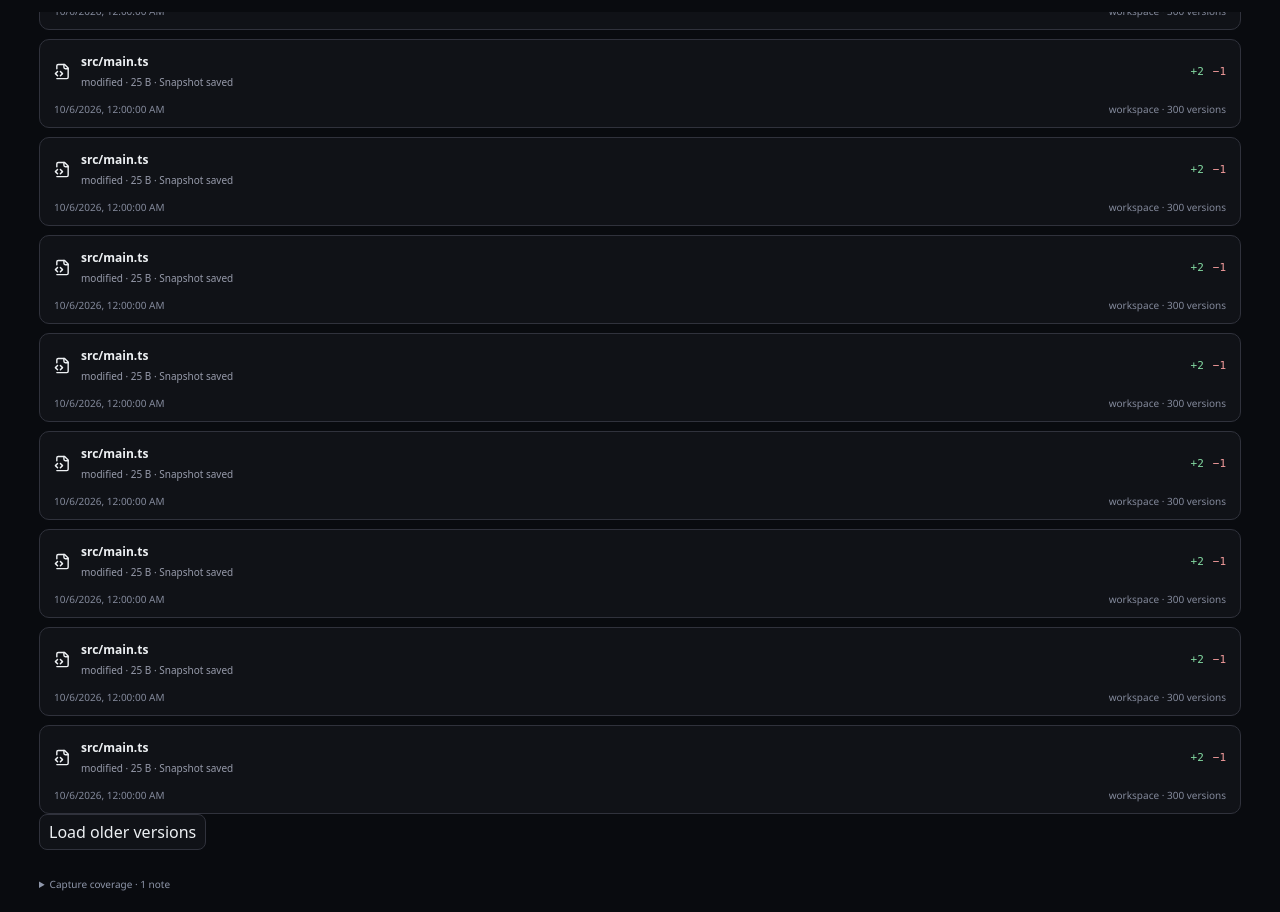
loads every older version by cursor without collapsing duplicate filenames
The width and height of the screenshot is (1280, 912).
(page scrolled)
Click the button "Load older versions". click: (123, 832)
box: [39,814,206,850]
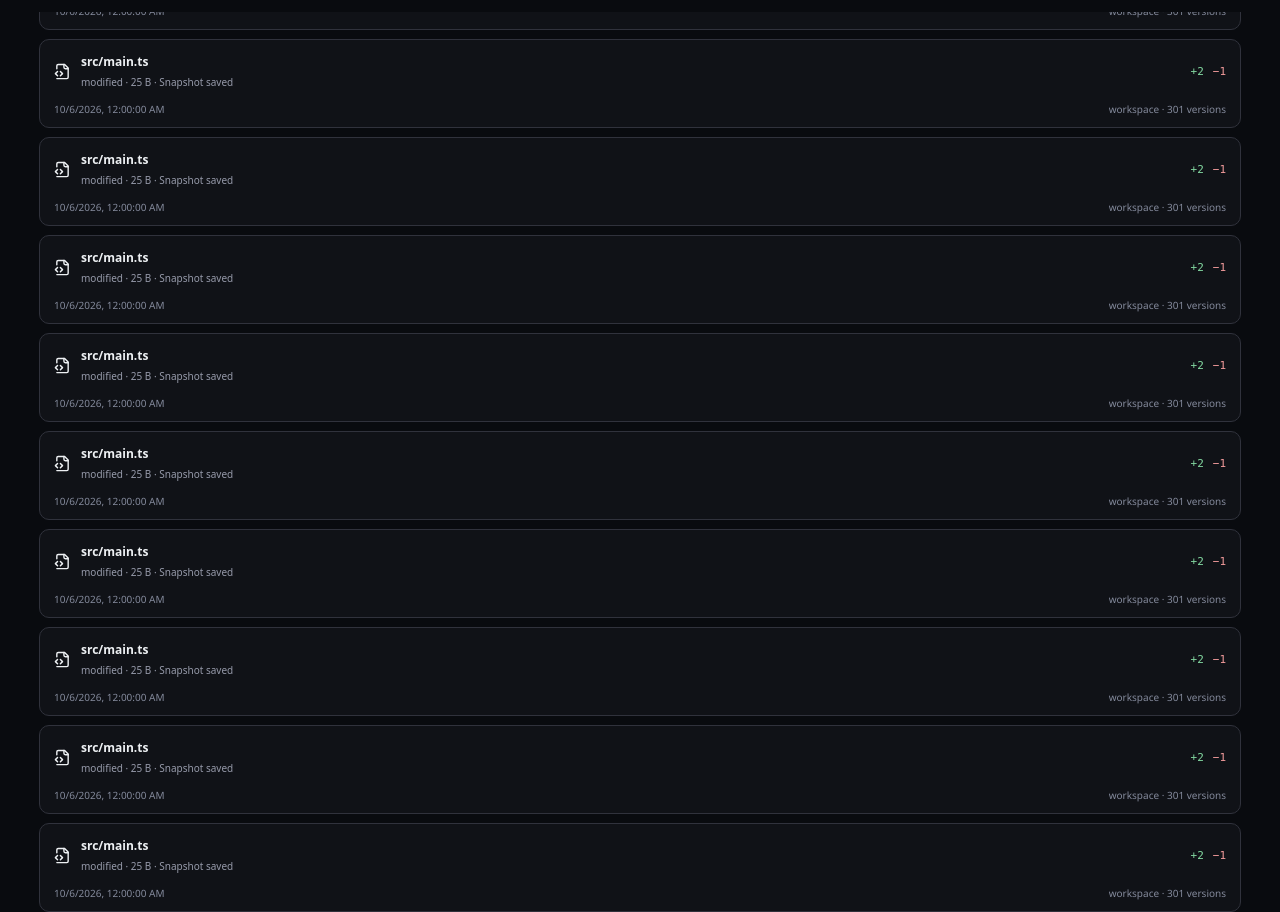
Click the 9th button with class "spaces-file-open". click: (115, 846)
box: [40,824,1240,886]
(page scrolled)
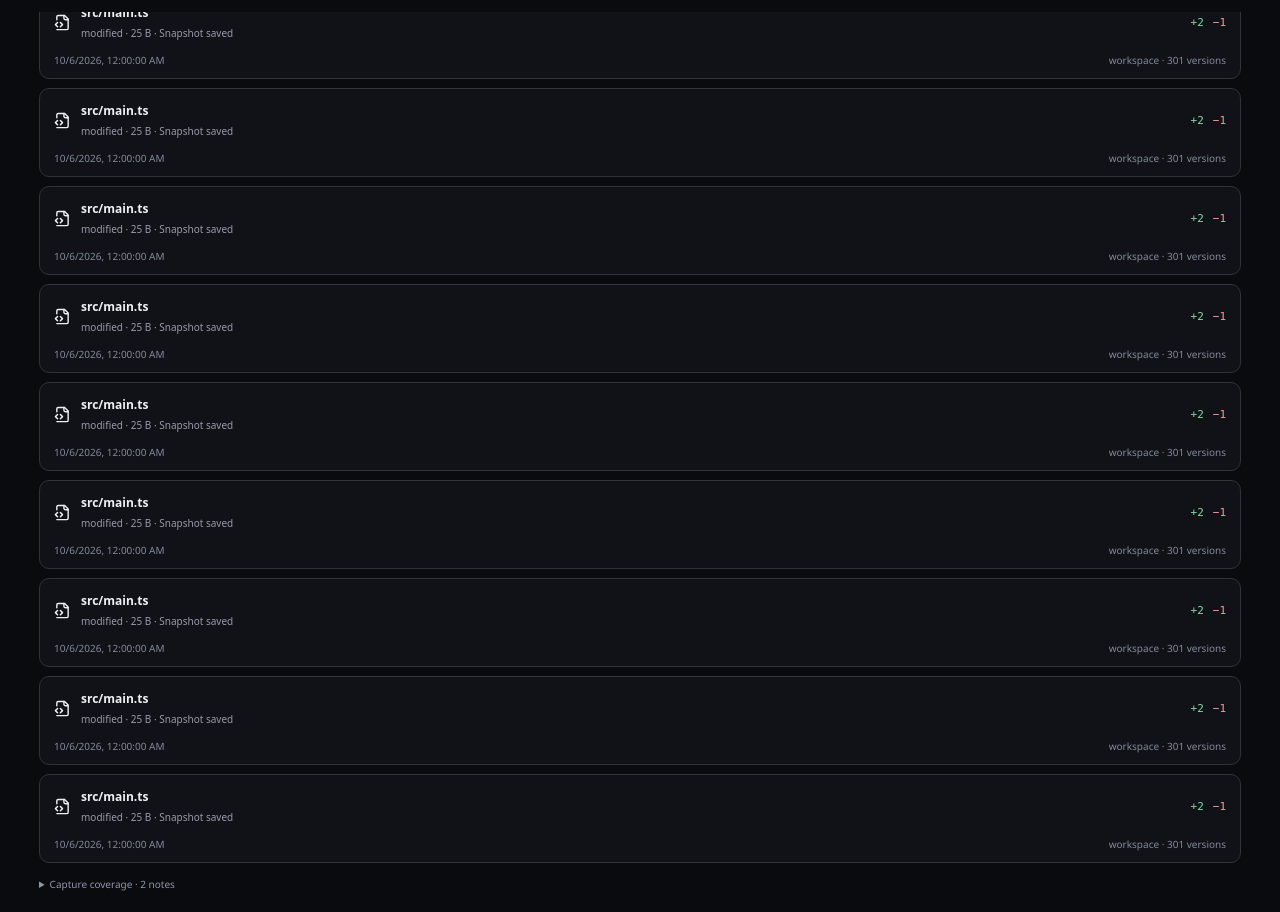
Expected: the button "Load older versions" is not shown
Click the heading "Capture coverage · 2 notes". click: (112, 884)
box: [50,877,175,891]
(page scrolled)
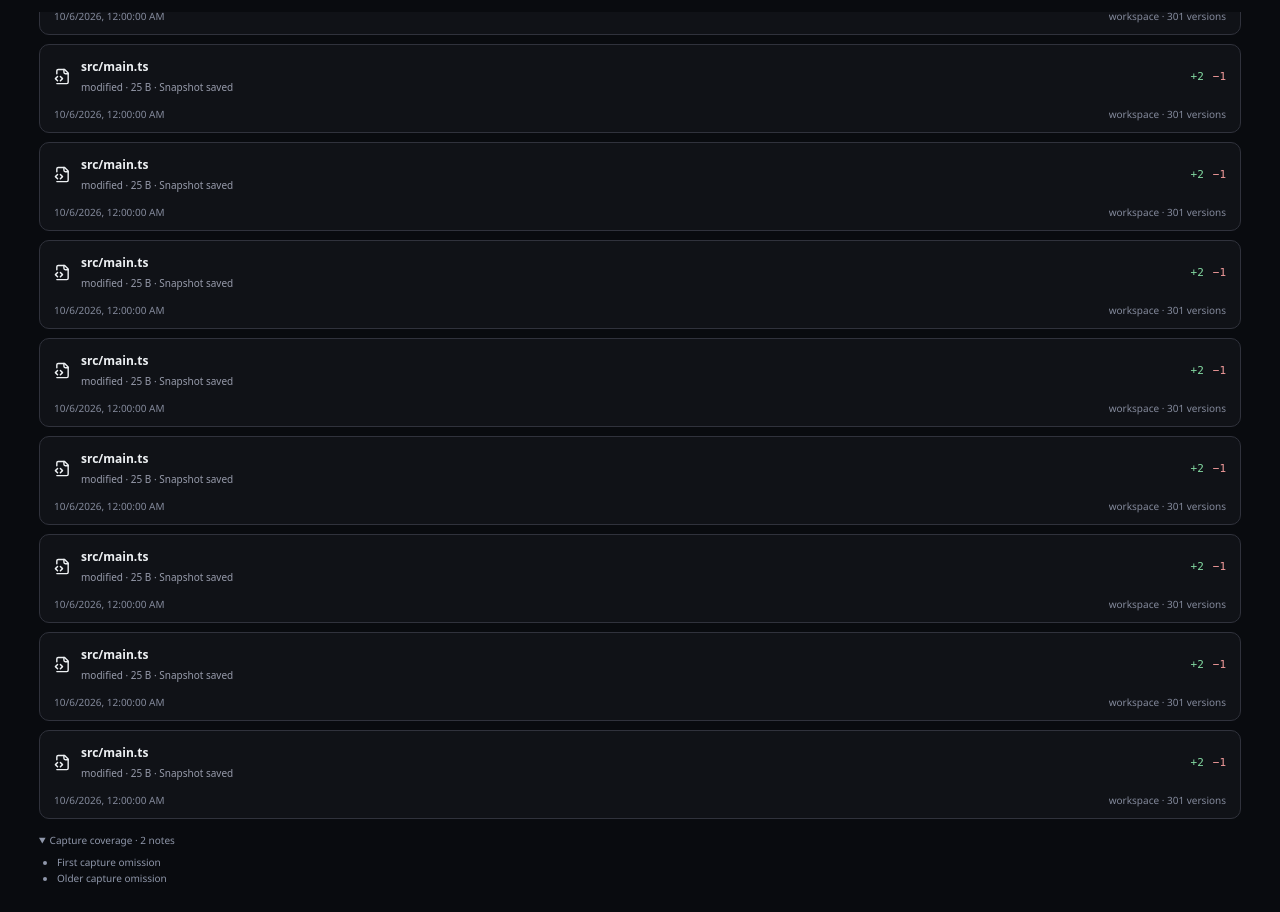
Result: the list item "First capture omission" is shown at [57,855,161,869]
Result: the list item "Older capture omission" is shown at [57,871,167,885]
